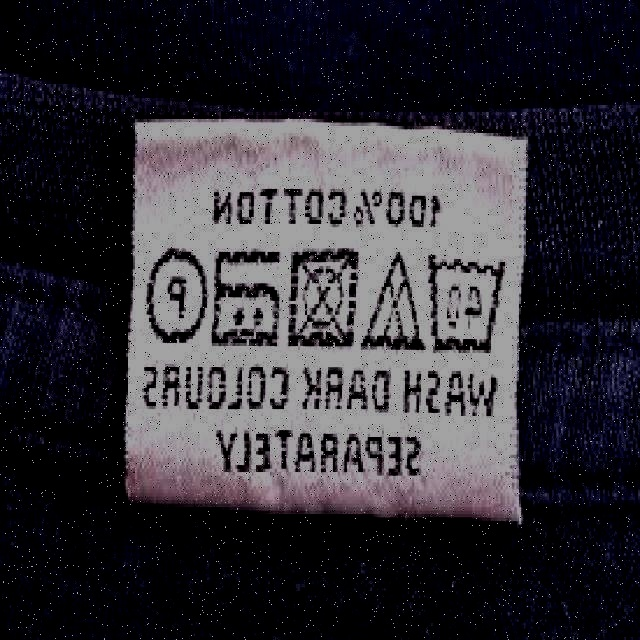40C: (423, 248, 509, 354)
DN_bleach: (363, 251, 425, 351)
DN_tumble_dry: (284, 244, 359, 347)
dry_clean_any_solvent_except_trichloroethylene: (146, 243, 208, 349)
iron_medium: (207, 246, 284, 349)
